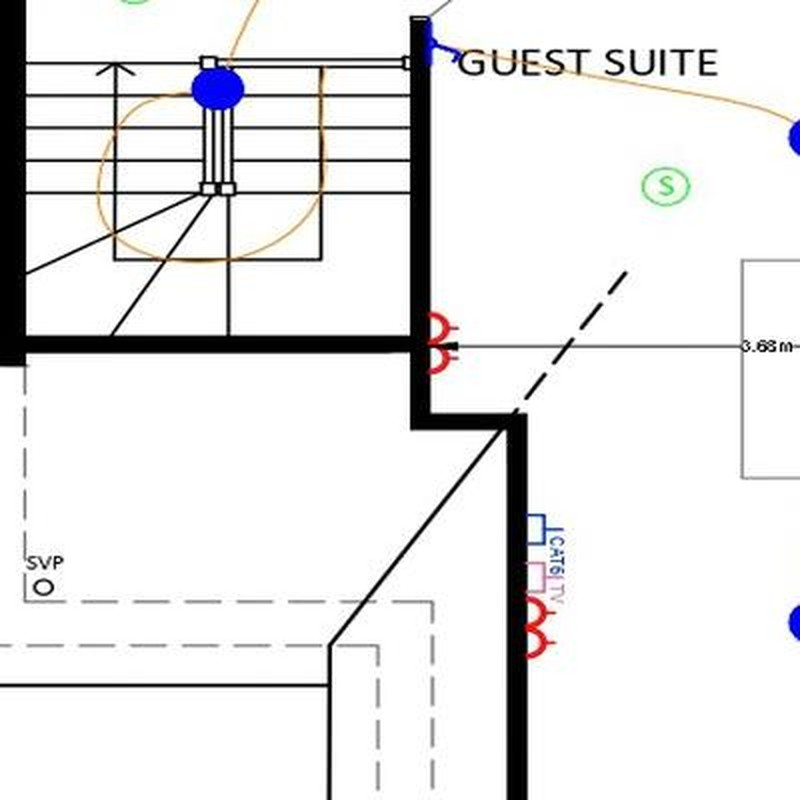Cat 6 Data Socket: (526, 513, 567, 573)
Double Socket: (526, 597, 558, 660), (431, 313, 460, 373)
Light Switch: (430, 34, 461, 70)
Low Energy Pendant Light: (193, 69, 245, 109), (786, 603, 800, 640), (789, 121, 800, 157)
Mains Wired Smoke Detector: (641, 167, 691, 205)
TV & Satellite Multisocket: (529, 562, 565, 603)
